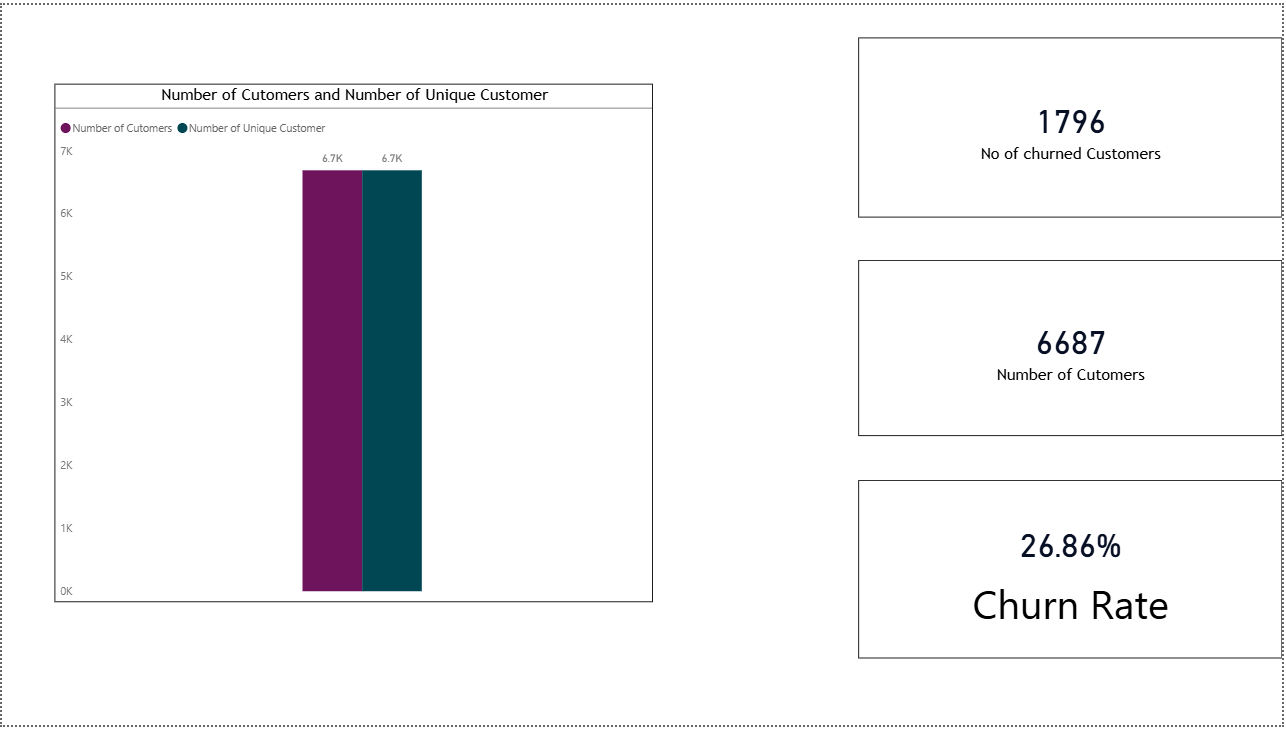

The dashboard page shown, as its layout file describes it:
{"tool":"powerbi","page":{"name":"Duplicate Check","canvas":[1280,720],"ordinal":1},"visuals":[{"type":"card","fields":{"Values":["Databel - Data.No of churned Customers"]},"box":[856.2,32.5,423.8,180],"z":0},{"type":"card","fields":{"Values":["Databel - Data.Number of Cutomers"]},"box":[856.2,255,423.8,176.2],"z":1000},{"type":"clusteredColumnChart","fields":{"Y":["Databel - Data.Number of Cutomers","Databel - Data.Number of Unique Customer"]},"box":[52.5,78.8,598.8,518.8],"z":2000},{"type":"card","title":"Churn Rate","fields":{"Values":["Databel - Data.Churn Rate"]},"box":[856.2,475,423.8,178.8],"z":2001}]}

Visuals, with their boxes in screenshot pixels (x1, y1, x2, y2), scaled from the page's 1280x720 canvas onto the 1286x730 screenshot:
card - Databel - Data.No of churned Customers: [860,33,1285,215]
card - Databel - Data.Number of Cutomers: [860,259,1285,437]
clusteredColumnChart - Databel - Data.Number of Cutomers x Databel - Data.Number of Unique Customer: [53,80,654,606]
"Churn Rate" card: [860,482,1285,663]
